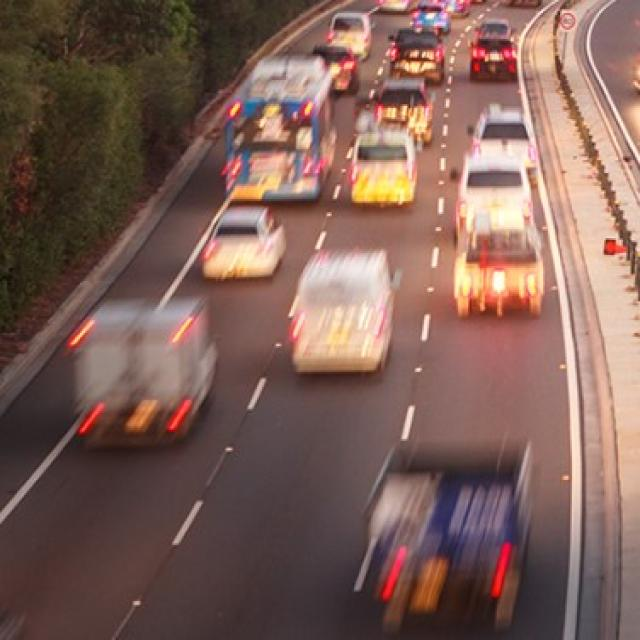bus: (223, 53, 338, 203)
car: (363, 435, 533, 640), (76, 294, 220, 447), (290, 249, 396, 378), (450, 210, 546, 318), (202, 204, 286, 283), (450, 165, 540, 232), (350, 130, 416, 208), (465, 106, 537, 174), (370, 74, 435, 146), (388, 24, 446, 89), (464, 24, 520, 85), (327, 10, 371, 60)
